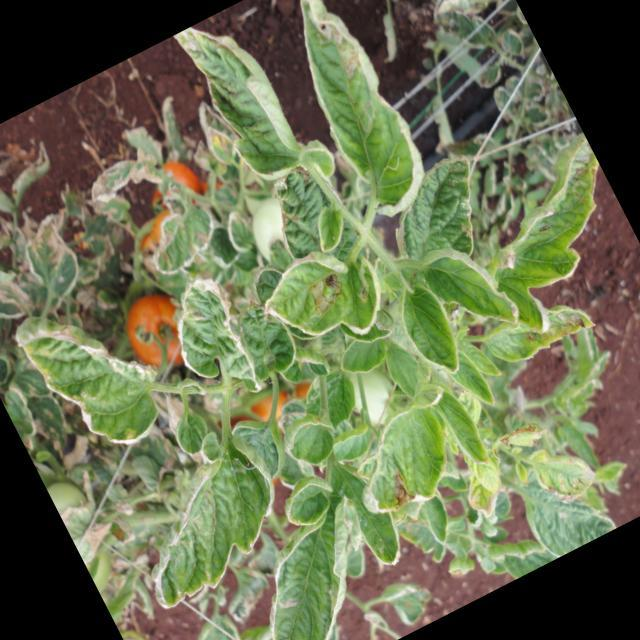Tomato yellow virus leaf: (194, 433, 440, 640), (264, 0, 451, 231), (445, 127, 640, 348), (153, 0, 344, 216), (0, 266, 181, 478), (108, 436, 316, 619), (317, 352, 512, 540), (242, 223, 400, 375), (147, 268, 276, 420), (400, 220, 526, 352), (384, 267, 493, 391)
